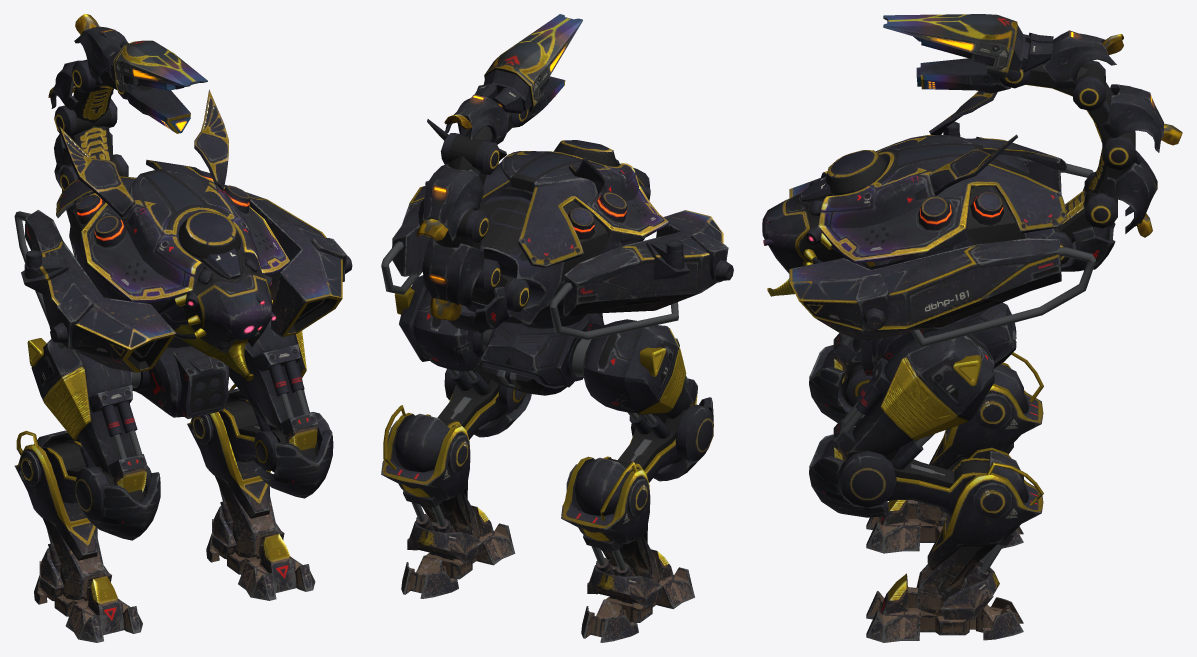
The picture shows the model from 3 angles, left to right: view 1: azimuth 30°, elevation 25°; view 2: azimuth 150°, elevation 25°; view 3: azimuth 270°, elevation 25°; orthographic projection. The views are drawn at different scales.
Visible parts, largest first — view 1: scorpion.tower, scorpion.right thigh, scorpion.ability.right part, scorpion.left thigh, scorpion.right lower leg, scorpion.ability.left part, scorpion.left lower leg, Scorpion, scorpion.ability.door, scorpion.right foot, scorpion.left foot, scorpion.ability.upper tail door (+7 smaller); view 2: scorpion.tower, scorpion.ability.right part, scorpion.right thigh, scorpion.right lower leg, scorpion.left lower leg, scorpion.left thigh, Scorpion, scorpion.tail2, scorpion.tail3, scorpion.left upper leg, scorpion.ability.upper tail door, scorpion.left foot (+7 smaller); view 3: scorpion.tower, scorpion.ability.left part, scorpion.left thigh, scorpion.left lower leg, scorpion.right lower leg, scorpion.ability.upper tail door, scorpion.left foot, scorpion.tail2, scorpion.tail1, scorpion.left upper leg, scorpion.tail3, scorpion.tail4 (+6 smaller).
Part boxes in pixels (box(x1,y1,x2,y2)): scorpion.tower: box(56, 159, 289, 380); scorpion.right thigh: box(27, 338, 160, 540); scorpion.ability.right part: box(14, 210, 176, 372); scorpion.left thigh: box(228, 319, 333, 498); scorpion.right lower leg: box(14, 430, 111, 599); scorpion.ability.left part: box(224, 185, 352, 337); scorpion.left lower leg: box(187, 384, 284, 557); Scorpion: box(131, 346, 229, 418); scorpion.ability.door: box(58, 89, 228, 217); scorpion.right foot: box(34, 575, 142, 642); scorpion.left foot: box(206, 533, 315, 600); scorpion.ability.upper tail door: box(110, 40, 207, 92); scorpion.tower: box(425, 140, 668, 328); scorpion.ability.right part: box(549, 210, 733, 339); scorpion.right thigh: box(582, 319, 713, 481); scorpion.right lower leg: box(561, 456, 662, 608); scorpion.left lower leg: box(381, 405, 482, 564); scorpion.left thigh: box(394, 275, 531, 437); Scorpion: box(481, 313, 604, 395); scorpion.tail2: box(416, 133, 499, 241); scorpion.tail3: box(422, 209, 488, 320); scorpion.left upper leg: box(395, 372, 507, 472); scorpion.ability.upper tail door: box(483, 14, 582, 111); scorpion.left foot: box(401, 505, 515, 598); scorpion.tower: box(762, 135, 1066, 296); scorpion.ability.left part: box(789, 238, 1095, 347); scorpion.left thigh: box(809, 328, 994, 517); scorpion.left lower leg: box(915, 447, 1043, 619); scorpion.right lower leg: box(915, 352, 1043, 526); scorpion.ability.upper tail door: box(883, 14, 1029, 77); scorpion.left foot: box(866, 573, 1023, 642); scorpion.tail2: box(1072, 60, 1182, 152); scorpion.tail1: box(999, 30, 1123, 96); scorpion.left upper leg: box(857, 450, 1023, 516); scorpion.tail3: box(1087, 131, 1157, 237); scorpion.tail4: box(1049, 171, 1117, 271).
Bounding box in the file's own units: 9.72 × 16.74 × 11.29.
Materials: 1 (1 with a texture image).
